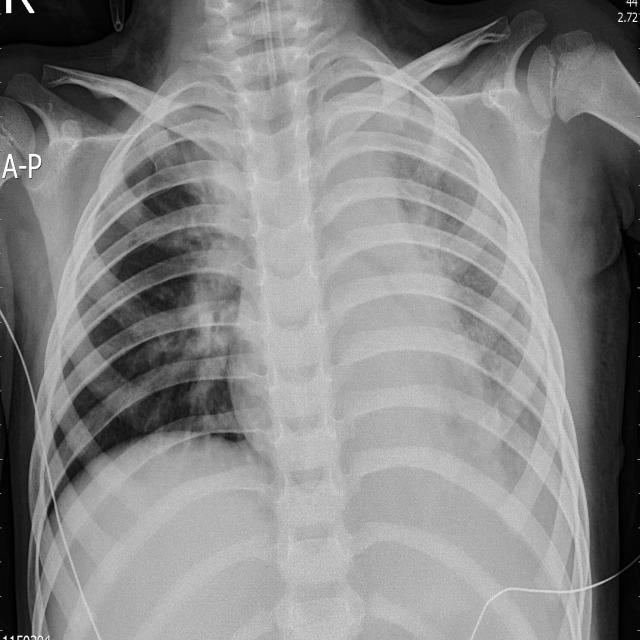low-pneumonia: (363, 76, 565, 482), (168, 118, 244, 409)
